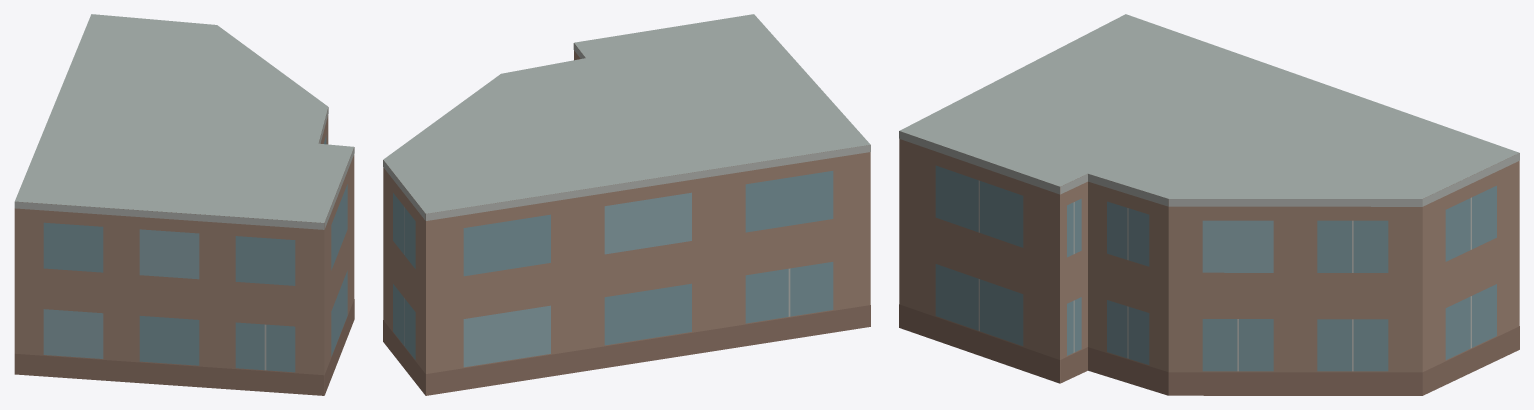
File: survey-upis-32659134.glb
3 renders of one model, left to right at view 1: azimuth 30°, elevation 25°; view 2: azimuth 150°, elevation 25°; view 3: azimuth 270°, elevation 25°, orthographic. The views are drawn at different scales.
Visible parts, largest first — view 1: survey-upis-32659134.tmp; view 2: survey-upis-32659134.tmp; view 3: survey-upis-32659134.tmp.
Part boxes in pixels (x1,y1,x2,y2): survey-upis-32659134.tmp: [14, 14, 354, 395]; survey-upis-32659134.tmp: [383, 14, 870, 395]; survey-upis-32659134.tmp: [899, 14, 1519, 395].
Size of the model in its own units: 12.3 by 6.1 by 17.43.
